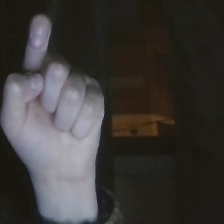X: (1, 8, 117, 189)
